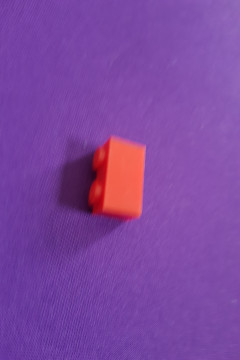1x2 red: (88, 135, 146, 223)
